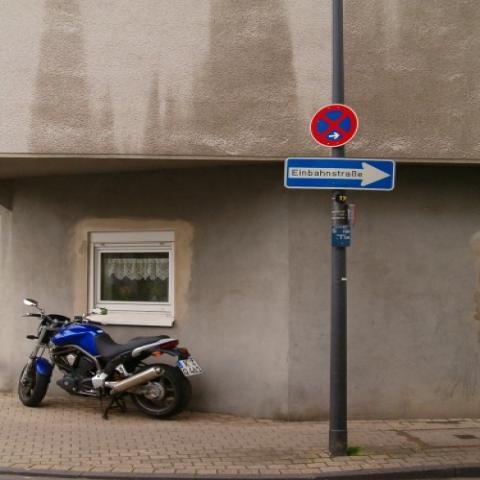motorcycle: (10, 296, 204, 424)
